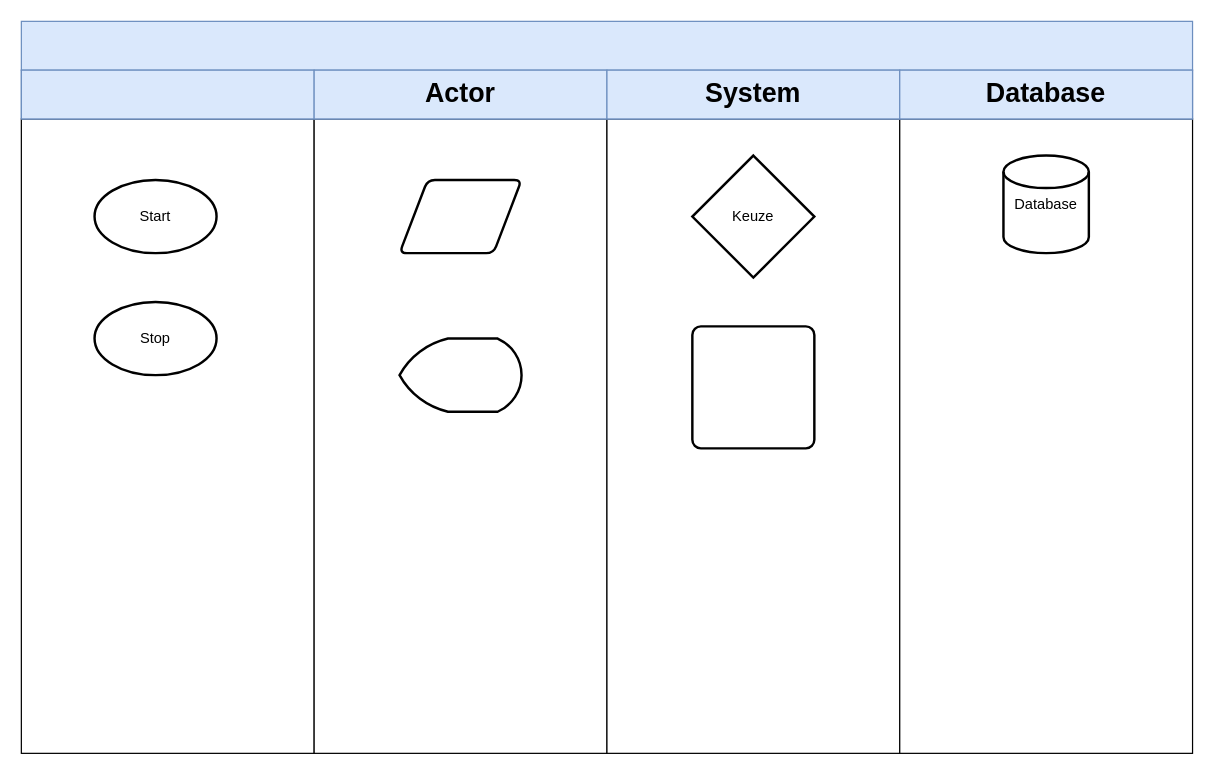
Some shapes in this 1214 by 775 pixel diagram are drawn without their labels. The shapes that lost their labels are listed below. From the top down, each one's box as (x1, y1, x2, y2) in pixels, then its label:
(398, 178, 522, 254): Input
(398, 337, 522, 412): Display
(691, 325, 815, 449): Proces
